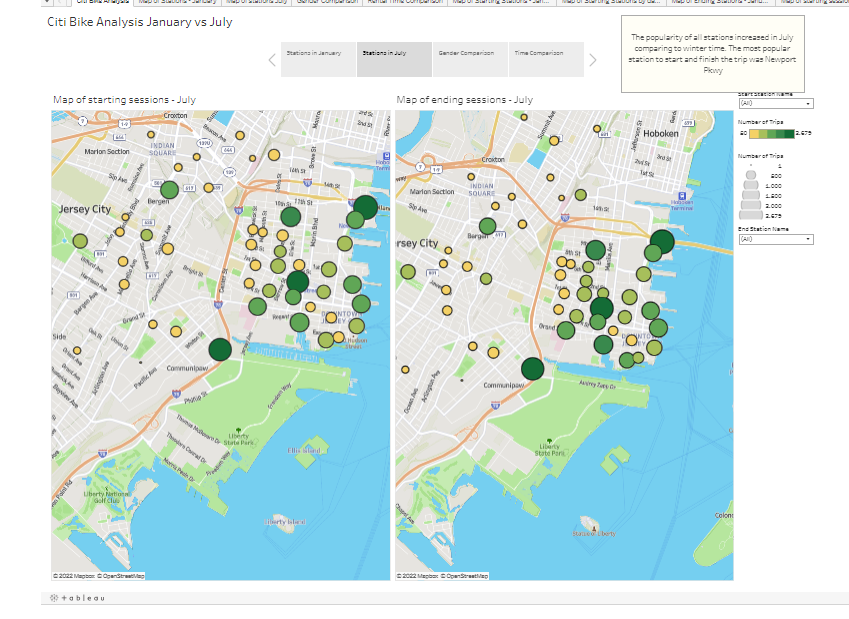

Layout of this report page (visuals, bound fields, positions):
{"tool":"tableau","page":{"name":"Map of stations July","canvas":[1000,1000],"units":"permille","ordinal":2},"visuals":[{"type":"worksheet","title":"Map of starting sessions - July","mark":"Automatic","rows":["start station latitude"],"cols":["start station longitude"],"box":[5,9.9,445.1,980.1]},{"type":"worksheet","title":"Map of ending sessions - July","mark":"Automatic","rows":["end station latitude"],"cols":["end station longitude"],"box":[450.1,9.9,445.1,980.1]},{"type":"filter","title":"Map of starting sessions - July","param":"[federated.14olxoa11jx6iv1f3uj6h0gwtq43].[none:start station name:nk]","box":[895.3,9.9,99.8,86.9]},{"type":"legend","title":"Map of starting sessions - July","param":"[federated.14olxoa11jx6iv1f3uj6h0gwtq43].[cnt:bikeid:qk]","box":[895.3,96.8,99.8,100.5]},{"type":"legend","title":"Map of starting sessions - July","param":"[federated.14olxoa11jx6iv1f3uj6h0gwtq43].[cnt:bikeid:qk]","box":[895.3,197.3,99.8,228.3]},{"type":"filter","title":"Map of ending sessions - July","param":"[federated.14olxoa11jx6iv1f3uj6h0gwtq43].[none:end station name:nk]","box":[895.3,425.6,99.8,86.9]}]}

Visuals, with their boxes on the dashboard's canvas, which has no fixed pixel size, in thousandths of its width and height (x1, y1, x2, y2). These are canvas units, not pixel positions in the 849x619 screenshot, which may show the page scaled, cropped or inside an application window:
"Map of starting sessions - July" worksheet: crop(5, 10, 450, 990)
"Map of ending sessions - July" worksheet: crop(450, 10, 895, 990)
"Map of starting sessions - July" filter: crop(895, 10, 995, 97)
"Map of starting sessions - July" legend: crop(895, 97, 995, 197)
"Map of starting sessions - July" legend: crop(895, 197, 995, 426)
"Map of ending sessions - July" filter: crop(895, 426, 995, 512)
